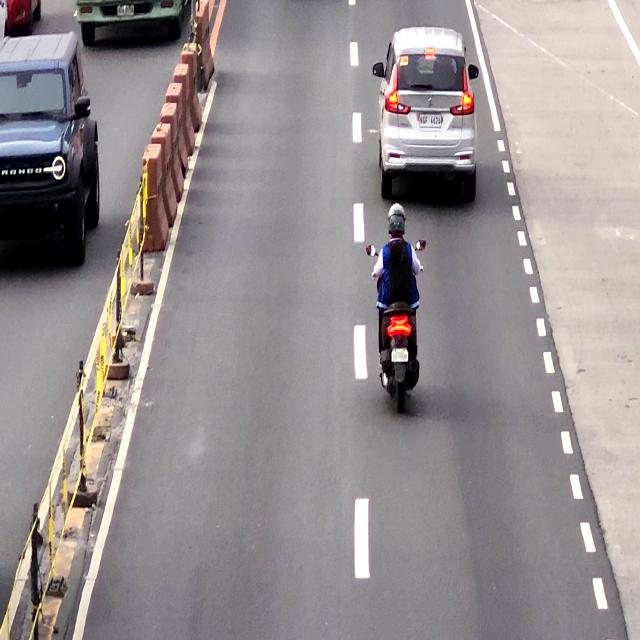Car: (374, 29, 476, 193)
License-Plate: (419, 112, 444, 125)
Motorcycle: (377, 209, 422, 412)
